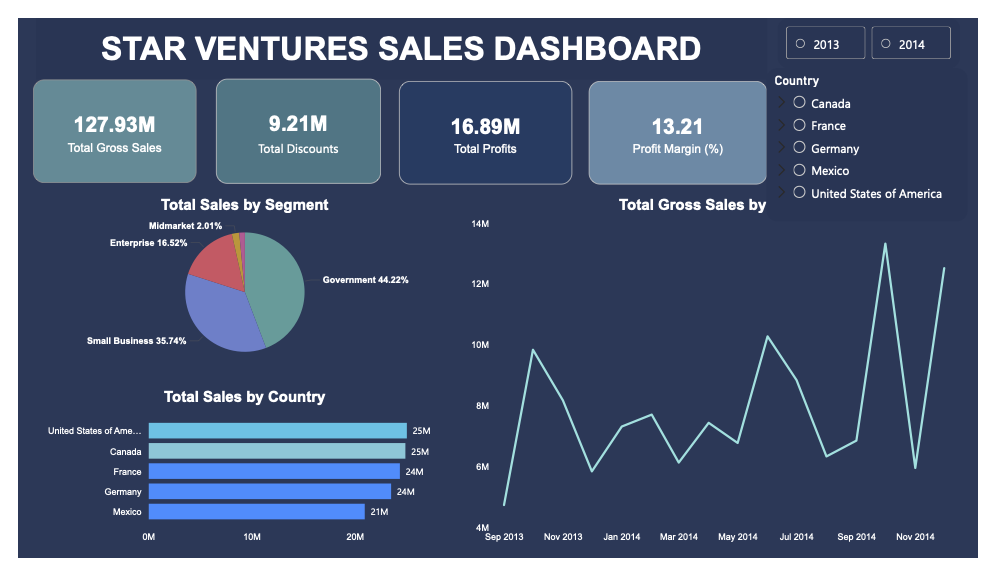

This screenshot's page, from the dashboard's own definition file:
{"tool":"powerbi","page":{"name":"Page 3","canvas":[1280,720],"ordinal":0},"visuals":[{"type":"shape","box":[23.6,0,975,81.9],"z":0},{"type":"card","fields":{"Values":["financials.Total Gross Sales"]},"box":[19.7,82.3,217.5,137.5],"z":0,"group":"g2"},{"type":"shape","box":[24.3,87.1,203.9,149.9],"z":0,"group":"g1"},{"type":"card","fields":{"Values":["financials.Total Discounts"]},"box":[263.5,81.1,220,140],"z":1000,"group":"g2"},{"type":"group","id":"g1","title":"Group 1","box":[24.3,87.1,885.1,149.9],"z":1000},{"type":"shape","box":[251.3,87.1,203.9,149.9],"z":1000,"group":"g1"},{"type":"group","id":"g2","title":"Group 2","box":[19.7,81.1,978.8,141.2],"z":2000},{"type":"card","fields":{"Values":["financials.Total Profits"]},"box":[507.2,83.6,231.2,138.8],"z":2000,"group":"g2"},{"type":"shape","box":[478.4,87.1,203.9,149.9],"z":2000,"group":"g1"},{"type":"card","fields":{"Values":["financials.Profit Margin (%)"]},"box":[760.9,83.6,237.5,138.8],"z":3000,"group":"g2"},{"type":"shape","box":[705.4,87.1,203.9,149.9],"z":3000,"group":"g1"},{"type":"pieChart","title":"Total Sales by Segment","fields":{"Category":["financials.Segment"],"Y":["Sum(financials. Sales)"]},"box":[20.3,237,565.1,234.9],"z":3000},{"type":"barChart","title":"Total Sales by Country","fields":{"Category":["financials.Country"],"Y":["Sum(financials. Sales)"]},"box":[20.3,488.1,565.1,218.7],"z":4000},{"type":"lineChart","title":"Total Gross Sales by Month","fields":{"Y":["Sum(financials.Gross Sales)"],"Category":["financials.Date.Variation.Date Hierarchy.Year","financials.Date.Variation.Date Hierarchy.Quarter","financials.Date.Variation.Date Hierarchy.Month","financials.Date.Variation.Date Hierarchy.Day"]},"box":[599.5,237,666.3,469.9],"z":5000},{"type":"advancedSlicerVisual","fields":{"Values":["financials.Year"]},"box":[1012.7,0,243,66.8],"z":6000},{"type":"listSlicer","fields":{"Values":["financials.Country","financials.Product"]},"box":[998.5,66.8,267.3,204.6],"z":6001}]}

Visuals, with their boxes in screenshot pixels (x1, y1, x2, y2), scaled from the page's 1280x720 canvas onto the 996x576 screenshot:
shape: {"left": 18, "top": 0, "right": 777, "bottom": 66}
card - financials.Total Gross Sales: {"left": 15, "top": 66, "right": 185, "bottom": 176}
shape: {"left": 19, "top": 70, "right": 178, "bottom": 190}
card - financials.Total Discounts: {"left": 205, "top": 65, "right": 376, "bottom": 177}
"Group 1" group: {"left": 19, "top": 70, "right": 708, "bottom": 190}
shape: {"left": 196, "top": 70, "right": 354, "bottom": 190}
"Group 2" group: {"left": 15, "top": 65, "right": 777, "bottom": 178}
card - financials.Total Profits: {"left": 395, "top": 67, "right": 575, "bottom": 178}
shape: {"left": 372, "top": 70, "right": 531, "bottom": 190}
card - financials.Profit Margin (%): {"left": 592, "top": 67, "right": 777, "bottom": 178}
shape: {"left": 549, "top": 70, "right": 708, "bottom": 190}
"Total Sales by Segment" pieChart: {"left": 16, "top": 190, "right": 456, "bottom": 378}
"Total Sales by Country" barChart: {"left": 16, "top": 390, "right": 456, "bottom": 565}
"Total Gross Sales by Month" lineChart: {"left": 466, "top": 190, "right": 985, "bottom": 566}
advancedSlicerVisual - financials.Year: {"left": 788, "top": 0, "right": 977, "bottom": 53}
listSlicer - financials.Country x financials.Product: {"left": 777, "top": 53, "right": 985, "bottom": 217}
